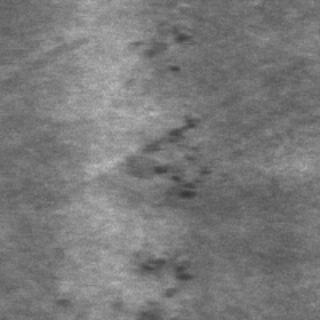rolled pit: (128, 104, 212, 204), (131, 240, 195, 318), (122, 8, 192, 76)
